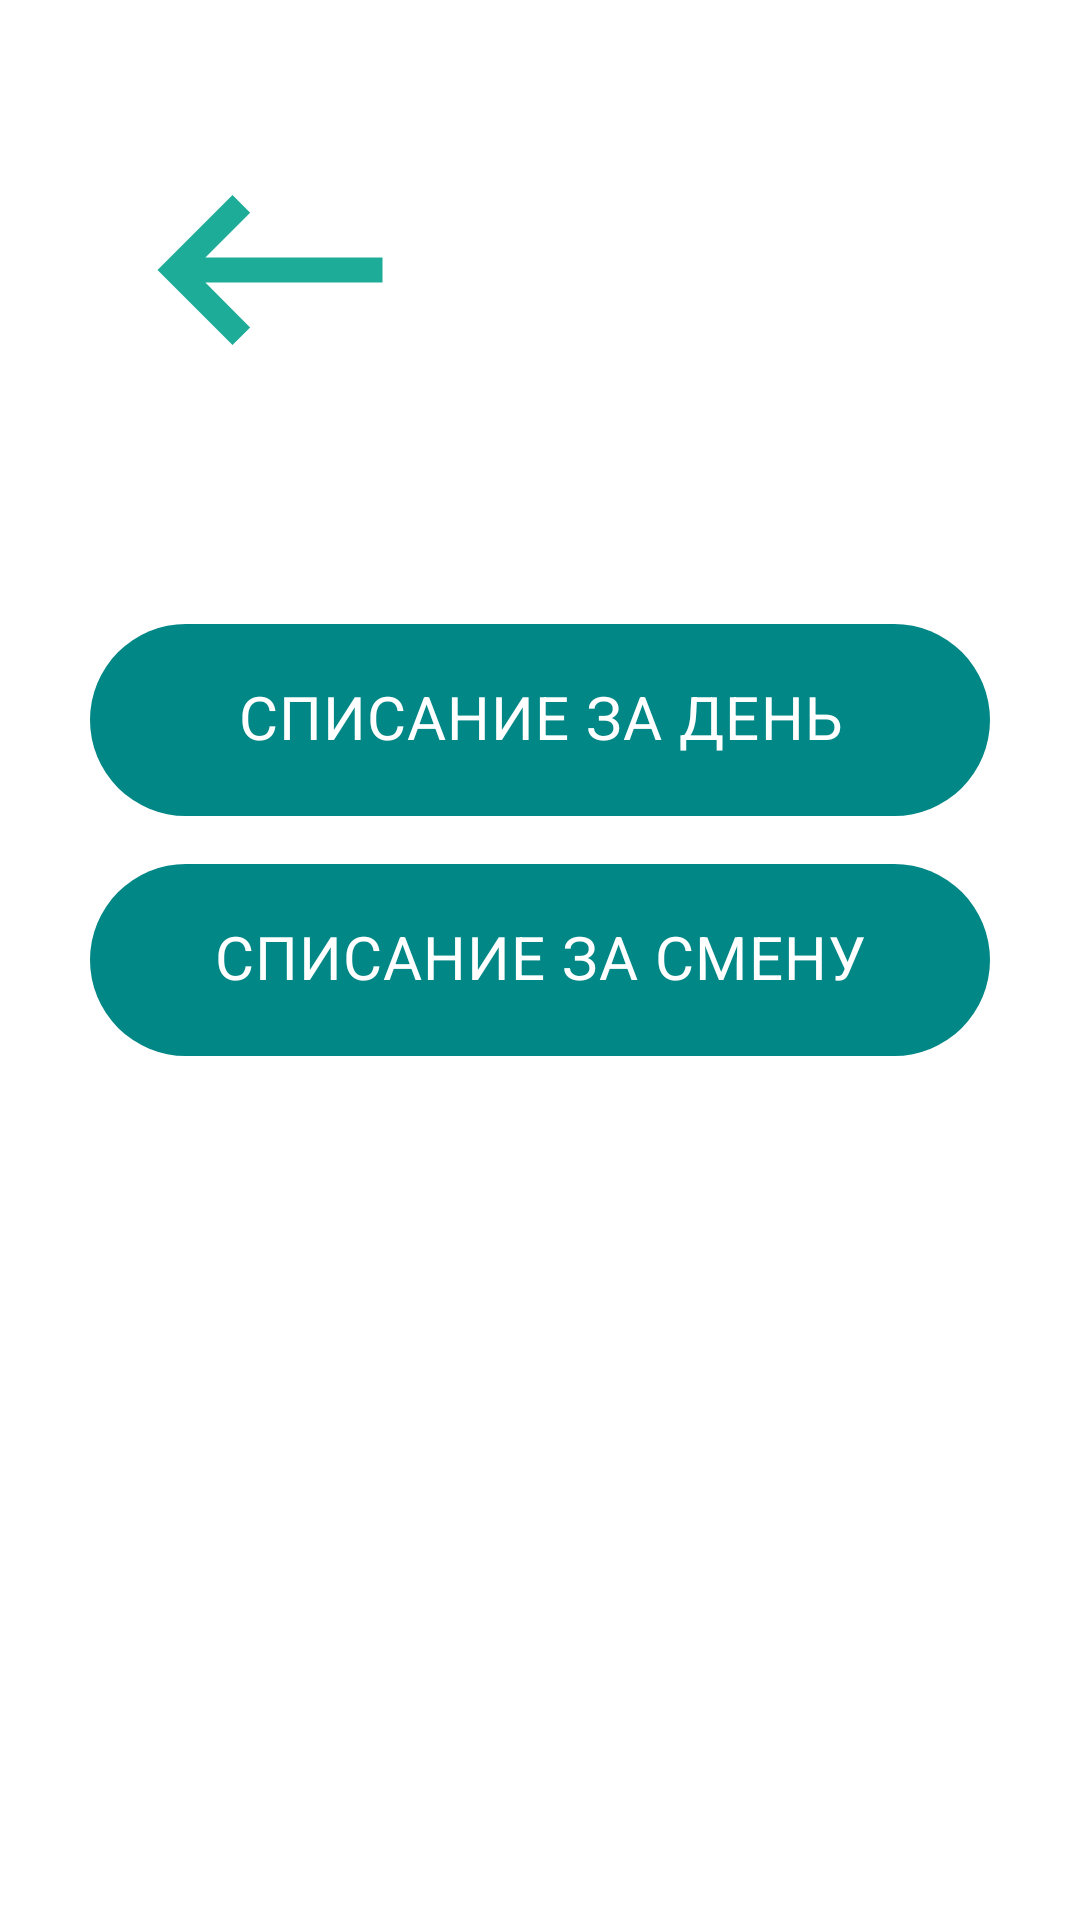

Where icons sit on this 1080px x 1920px app screen, as (x1, y1, x2, y2):
keyboard backspace: (157, 195, 383, 345)
